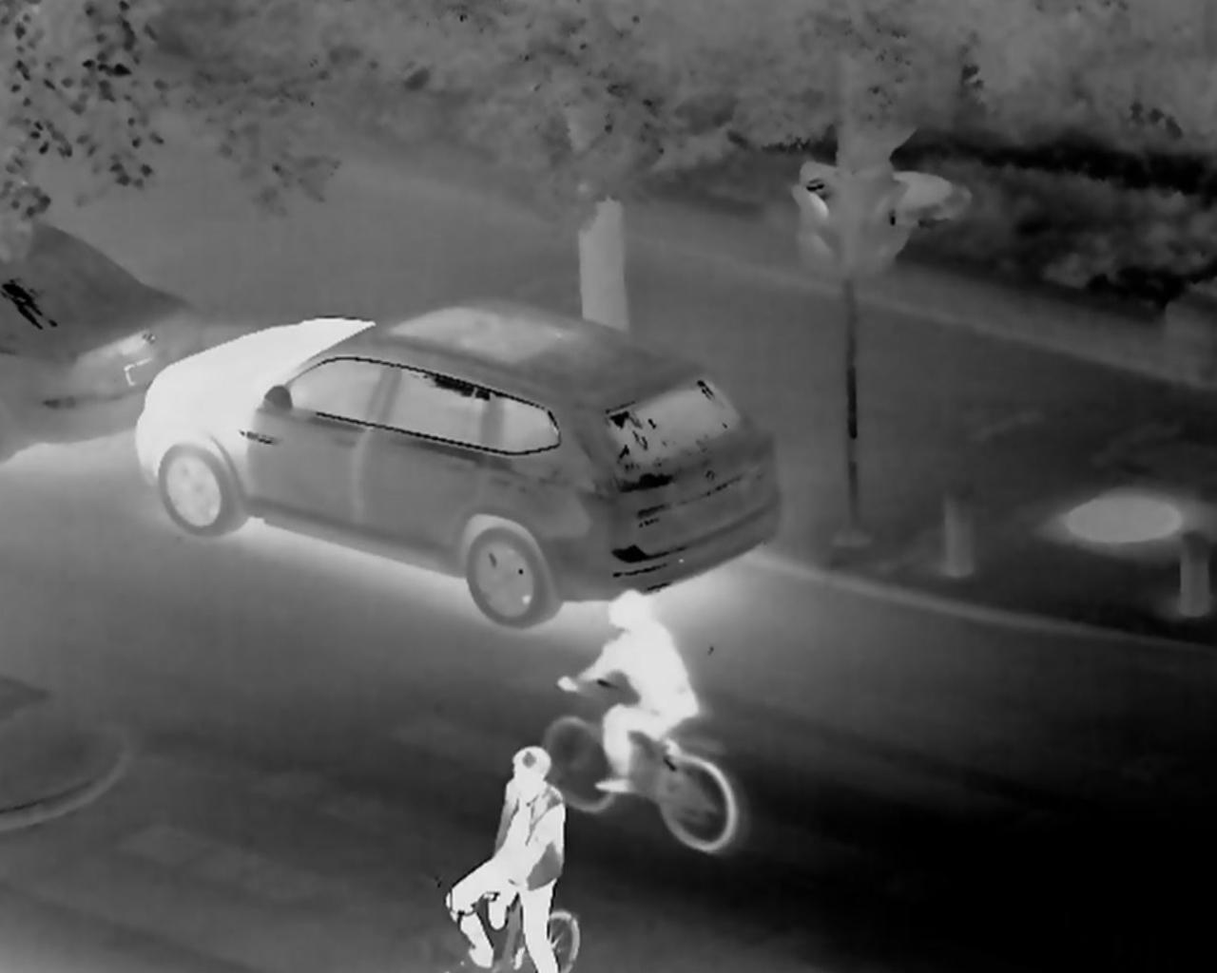person: (551, 584, 700, 800), (435, 751, 565, 973)
